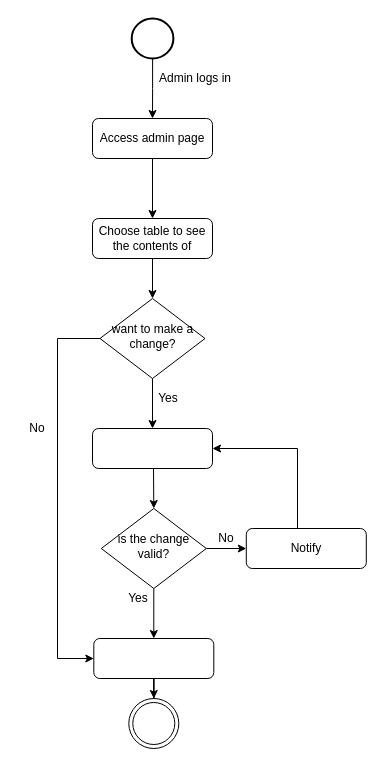
Some shapes in this 384 by 766 pixel diagram are drawn without their labels. Here are the shapes that lost their labels. From the top down, the centre of each, then its label:
At point 152,448: "Make change in table".
At point 153,658: "Show results".
